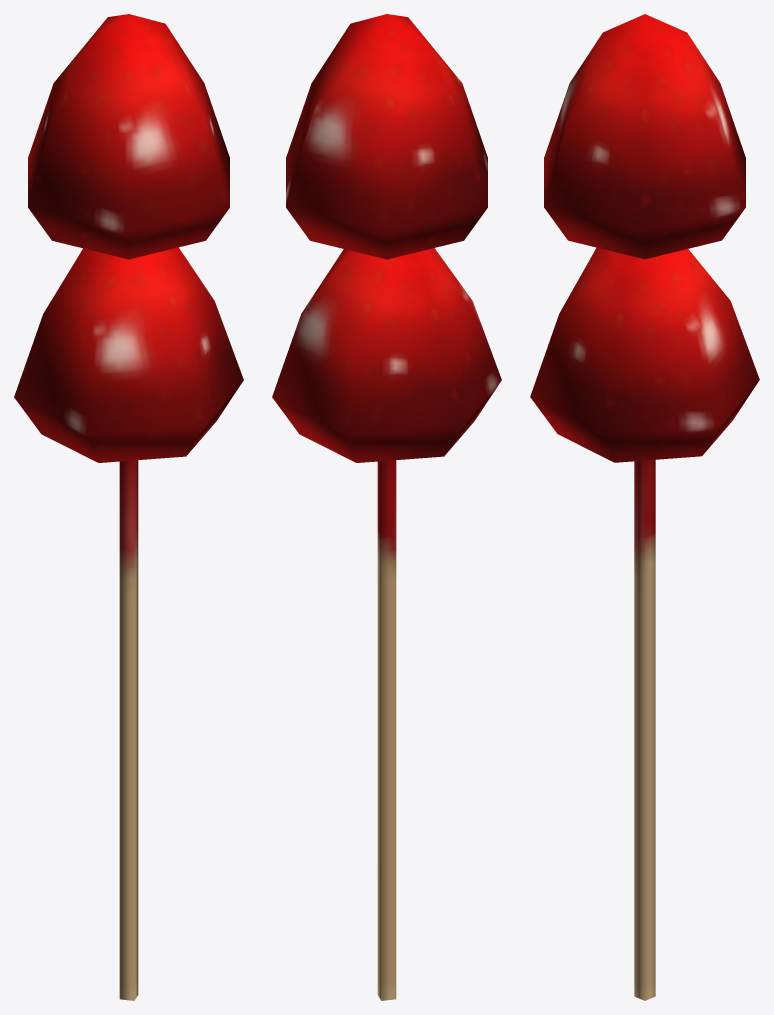
Rendered from jsf_Strawberry_03.fbx.
3 views of the same model, side by side, from view 1: azimuth 30°, elevation 25°; view 2: azimuth 150°, elevation 25°; view 3: azimuth 270°, elevation 25° (orthographic).
Visible parts, largest first — view 1: jsf_Strawberry_03; view 2: jsf_Strawberry_03; view 3: jsf_Strawberry_03.
Part boxes in pixels (x1,y1,x2,y2): jsf_Strawberry_03: (14,14,243,1000); jsf_Strawberry_03: (272,14,501,1000); jsf_Strawberry_03: (530,14,759,1000).
Size of the model in its own units: 2.74 by 12.75 by 2.7.
